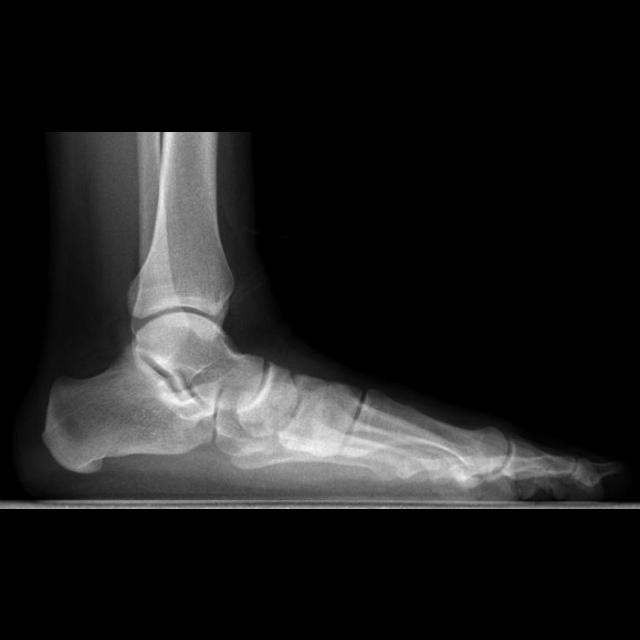a: (41, 347, 214, 474)
b: (238, 356, 300, 435)
c: (335, 387, 509, 476)
